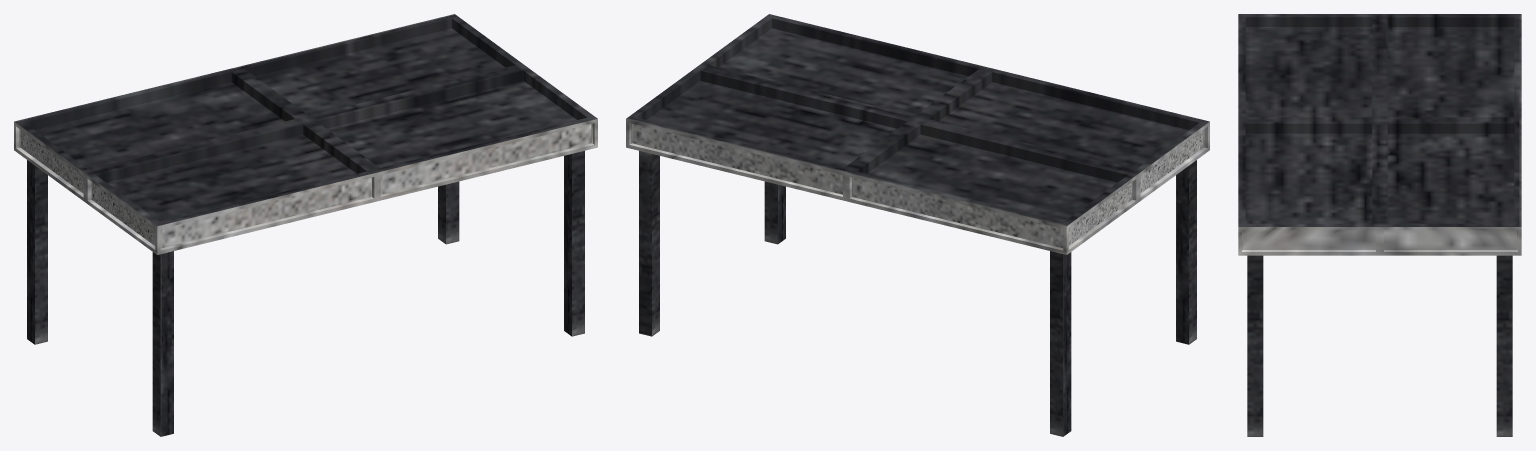
File: table.fbx
The picture shows the model from 3 angles, left to right: view 1: azimuth 30°, elevation 25°; view 2: azimuth 150°, elevation 25°; view 3: azimuth 270°, elevation 25°; orthographic projection.
Parts seen in each view (by area): view 1: Table; view 2: Table; view 3: Table.
Part boxes in pixels (x1,y1,x2,y2): Table: (14,14,597,436); Table: (626,14,1209,436); Table: (1238,14,1521,436).
Bounding box in the file's own units: 900 × 422 × 506.
